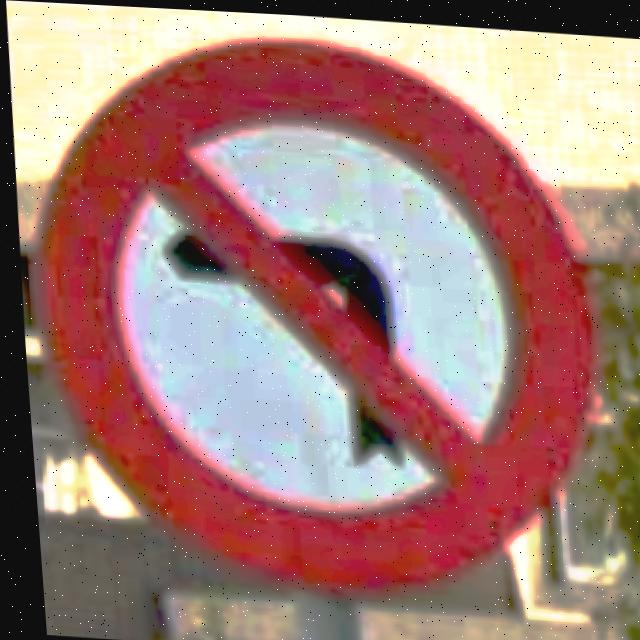noturnleft: (30, 34, 595, 599)
